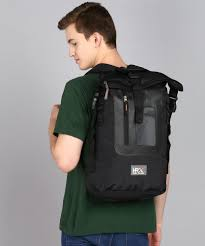backpack: (81, 63, 183, 203)
